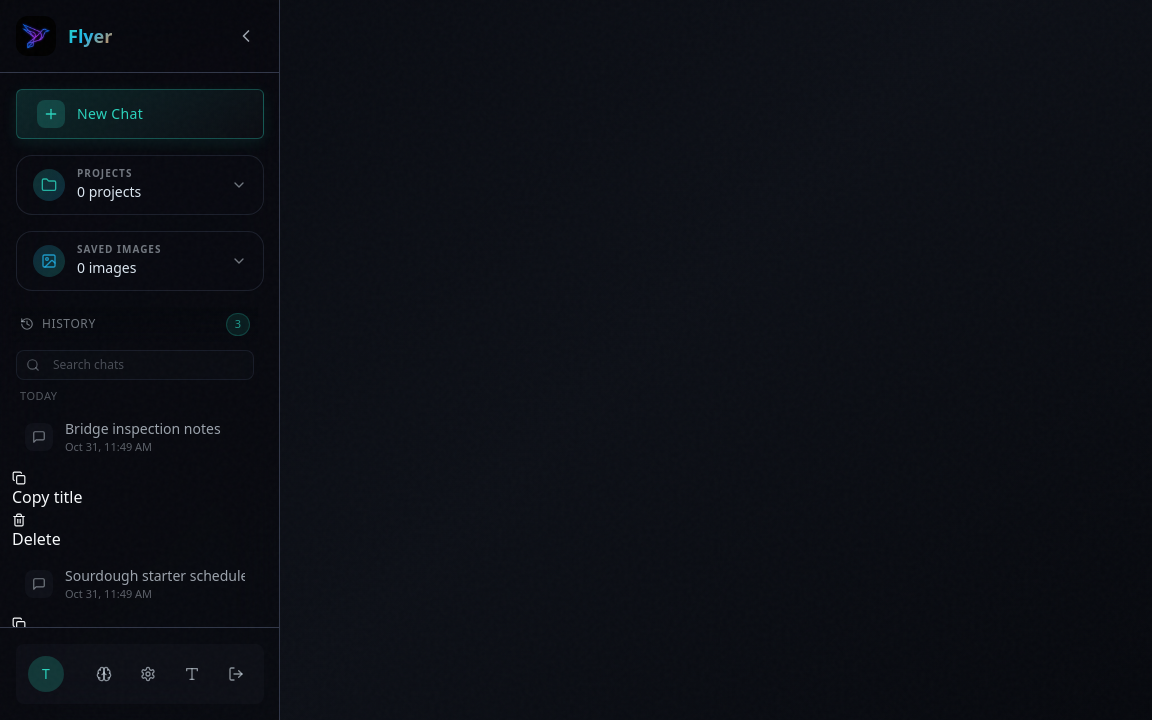
history filtering › matches case-insensitively, in both directions
The width and height of the screenshot is (1152, 720).
Step 1. Type "BRIDGE" into the search field named "search conversations" → (135, 364), box [16,350,254,380]
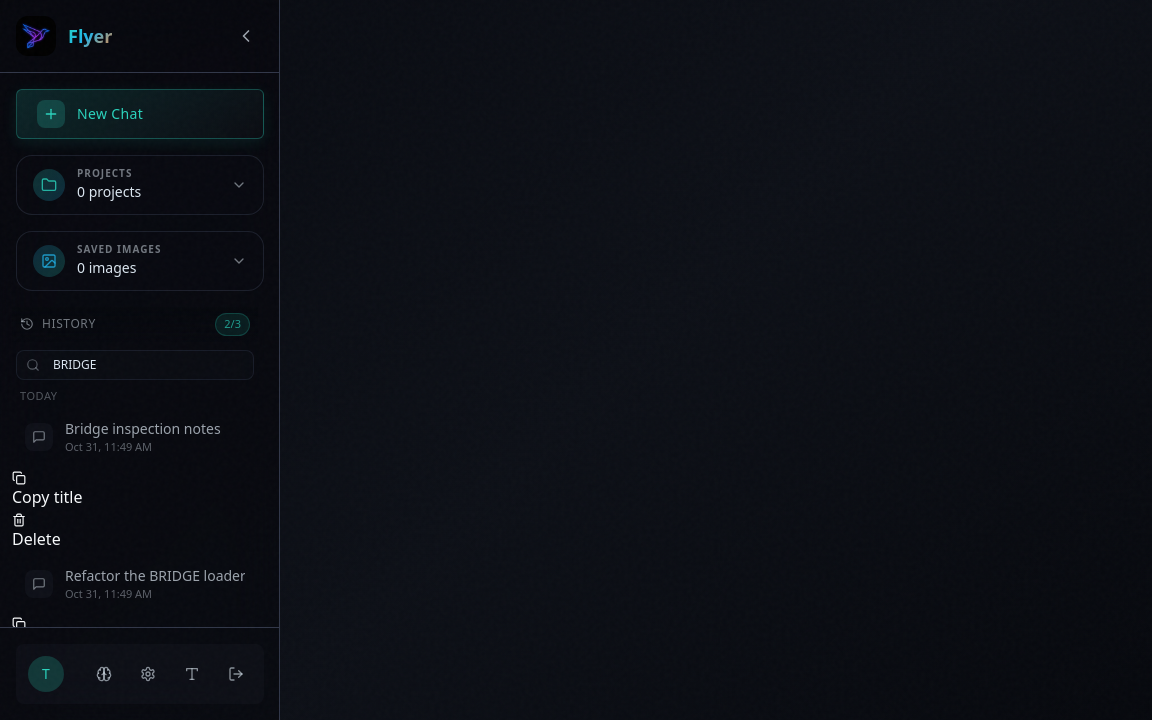
Expected: the text "Bridge inspection notes" is shown, [65,419,245,439]
Expected: the text "Refactor the BRIDGE loader" is shown, [65,566,245,586]
Expected: the button "Sourdough starter schedule" is gone
